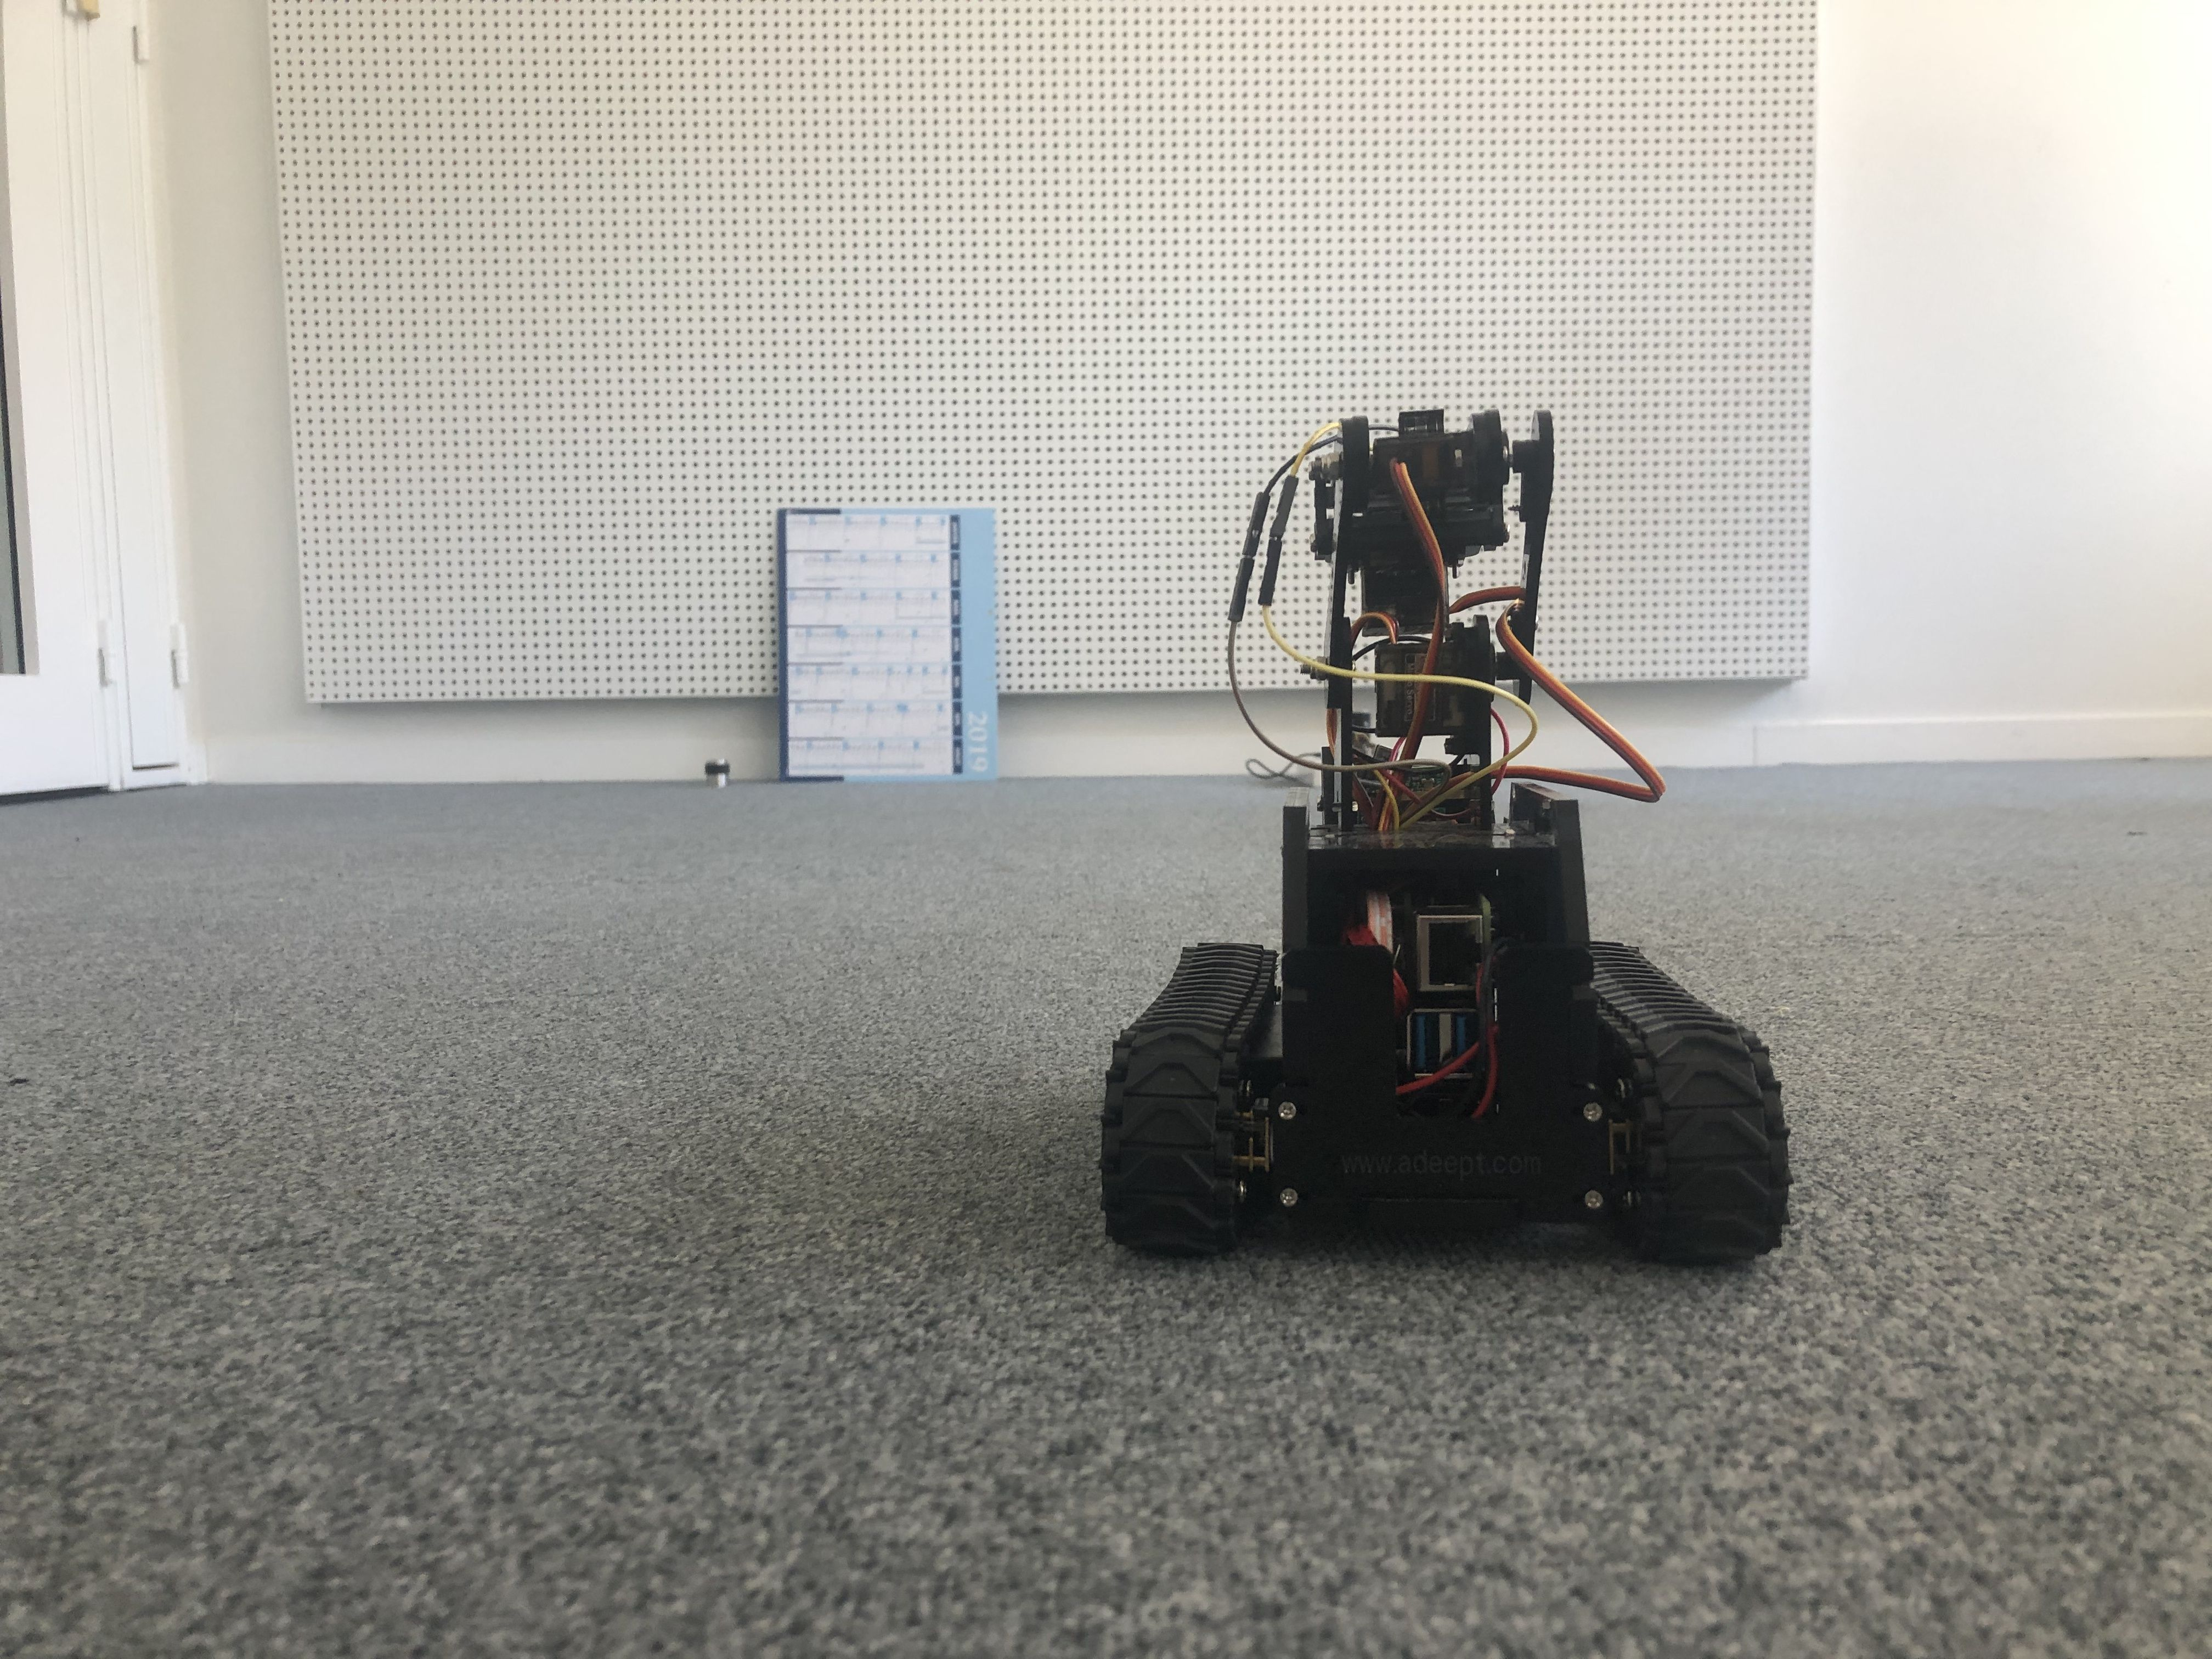rasptank: (1096, 394, 1813, 1263)
